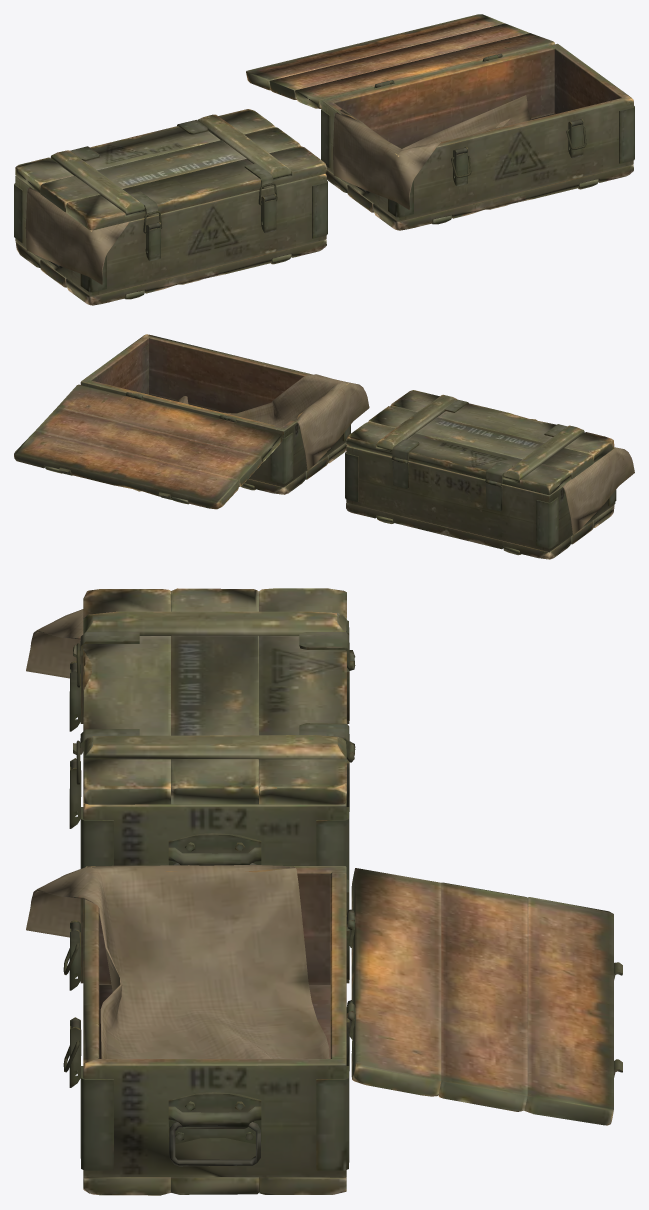
The model's file is military_crate.glb.
3 views of the same model, one above another, from view 1: azimuth 30°, elevation 25°; view 2: azimuth 150°, elevation 25°; view 3: azimuth 270°, elevation 25° (orthographic). The views are drawn at different scales.
Parts seen in each view (by area): view 1: old_military_crate_b, old_military_crate_lid_a, old_military_crate_a, old_military_crate_lid_b, old_military_crate_cloth_b, old_military_crate_cloth_a, old_military_crate_latch_a, old_military_crate_latch_b; view 2: old_military_crate_lid_b, old_military_crate_lid_a, old_military_crate_a, old_military_crate_b, old_military_crate_cloth_b, old_military_crate_cloth_a; view 3: old_military_crate_lid_a, old_military_crate_lid_b, old_military_crate_b, old_military_crate_cloth_b, old_military_crate_a, old_military_crate_cloth_a, old_military_crate_latch_a, old_military_crate_latch_b.
Boxes of the visible parts, <box> form: old_military_crate_b: <box>321,43,634,230</box>; old_military_crate_lid_a: <box>15,109,326,230</box>; old_military_crate_a: <box>14,173,327,305</box>; old_military_crate_lid_b: <box>246,14,554,108</box>; old_military_crate_cloth_b: <box>333,95,531,209</box>; old_military_crate_cloth_a: <box>25,187,129,284</box>; old_military_crate_latch_a: <box>145,194,276,261</box>; old_military_crate_latch_b: <box>453,119,583,186</box>; old_military_crate_lid_b: <box>14,384,282,509</box>; old_military_crate_lid_a: <box>346,390,614,495</box>; old_military_crate_a: <box>345,445,616,559</box>; old_military_crate_b: <box>80,334,350,494</box>; old_military_crate_cloth_b: <box>176,374,369,470</box>; old_military_crate_cloth_a: <box>562,447,634,535</box>; old_military_crate_lid_a: <box>73,588,355,805</box>; old_military_crate_lid_b: <box>347,868,622,1125</box>; old_military_crate_b: <box>80,866,354,1195</box>; old_military_crate_cloth_b: <box>26,865,329,1058</box>; old_military_crate_a: <box>80,620,355,886</box>; old_military_crate_cloth_a: <box>26,609,83,678</box>; old_military_crate_latch_a: <box>69,661,81,828</box>; old_military_crate_latch_b: <box>69,920,81,1087</box>.
Bounding box in the file's own units: 1.81 × 0.3009 × 0.9743.
1 material, 1 textured.
